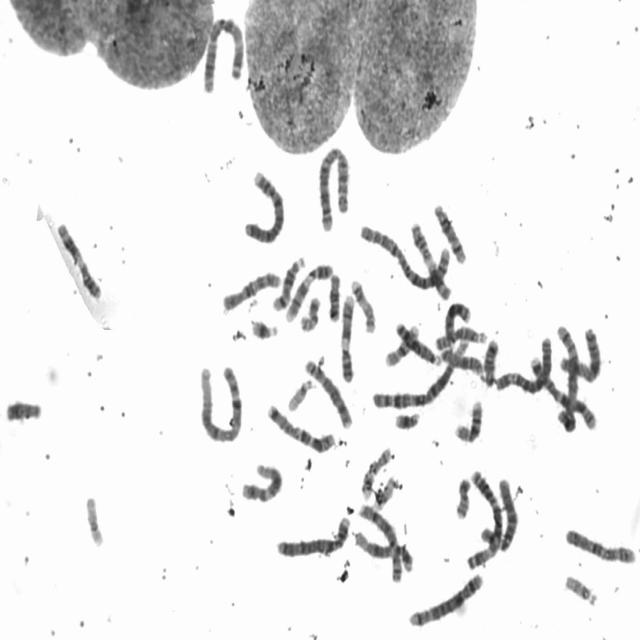A1: (368, 334, 472, 412), (194, 358, 244, 445)
A2: (356, 216, 454, 296), (314, 140, 353, 234)
A3: (462, 465, 506, 571), (199, 9, 246, 95)
B4: (272, 510, 353, 560), (240, 163, 286, 244)
B5: (404, 566, 486, 630), (553, 317, 582, 433)
C10: (557, 518, 637, 570), (218, 264, 282, 313)
C11: (53, 215, 104, 302), (406, 214, 452, 301)
C12: (350, 523, 416, 574), (237, 456, 284, 504)
C6: (492, 330, 555, 395), (477, 475, 521, 552)
C7: (526, 350, 599, 431), (263, 396, 337, 455)
C8: (354, 496, 404, 584), (300, 352, 354, 429)
C9: (281, 256, 335, 324), (336, 288, 357, 384)
D13: (392, 314, 442, 368), (436, 294, 474, 354)
D14: (430, 197, 468, 264), (268, 249, 307, 312)
D15: (429, 320, 488, 350), (436, 341, 485, 377)
E16: (381, 316, 422, 368), (450, 393, 484, 444)
E17: (358, 441, 393, 501), (347, 272, 378, 335)
E18: (478, 333, 500, 387), (325, 267, 342, 323)
F19: (80, 488, 106, 549), (367, 474, 402, 514)
F20: (296, 290, 323, 334), (451, 470, 473, 520)
G21: (246, 312, 280, 342), (390, 405, 422, 431)
G22: (560, 568, 600, 608), (283, 372, 316, 413)
X: (554, 319, 604, 385)
Y: (2, 392, 44, 423)
